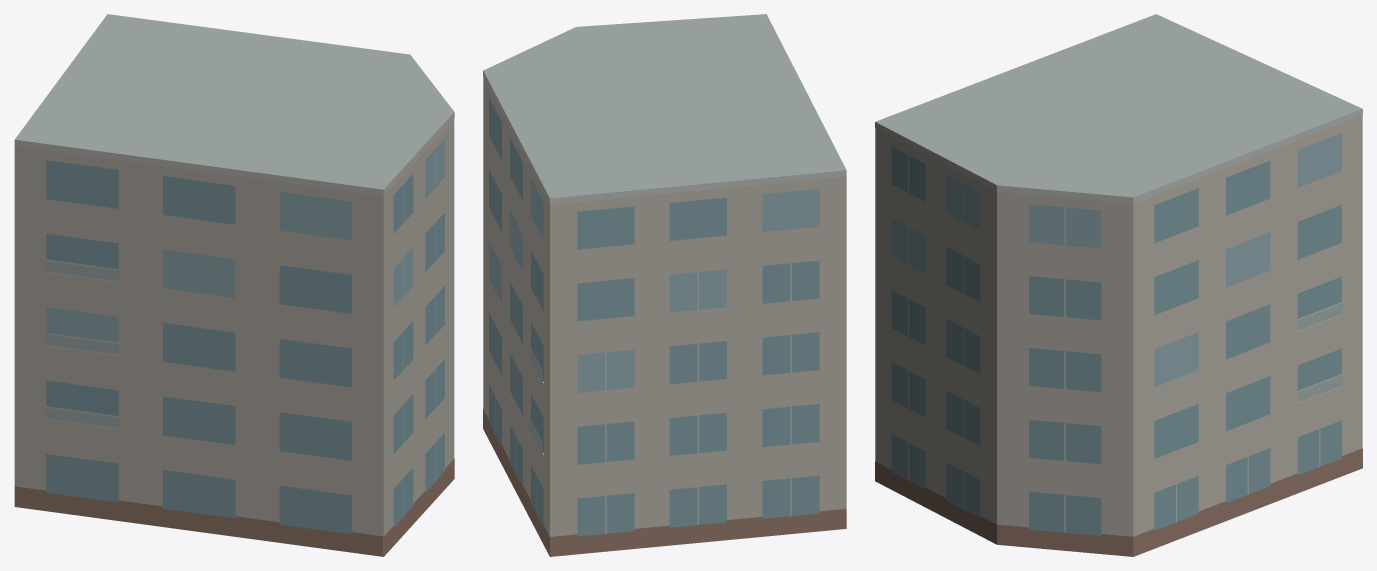
The model's file is survey-upis-32631340.glb.
3 views of the same model, side by side, from view 1: azimuth 30°, elevation 25°; view 2: azimuth 150°, elevation 25°; view 3: azimuth 270°, elevation 25° (orthographic). The views are drawn at different scales.
Visible parts, largest first — view 1: survey-upis-32631340.tmp; view 2: survey-upis-32631340.tmp; view 3: survey-upis-32631340.tmp.
Part boxes in pixels (x1,y1,x2,y2): survey-upis-32631340.tmp: (14, 14, 454, 556); survey-upis-32631340.tmp: (483, 14, 846, 556); survey-upis-32631340.tmp: (875, 14, 1362, 556).
Bounding box in the file's own units: 15.55 × 14.2 × 17.47.
